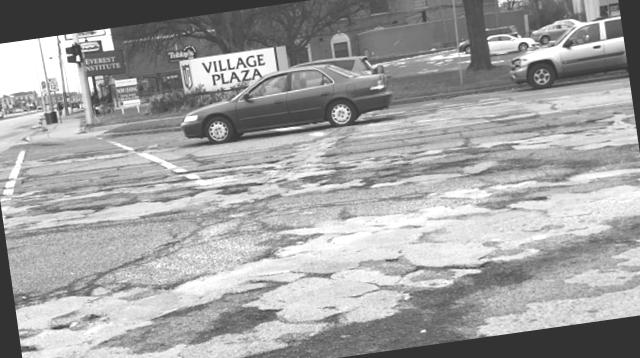Pothole: (143, 203, 640, 358)
